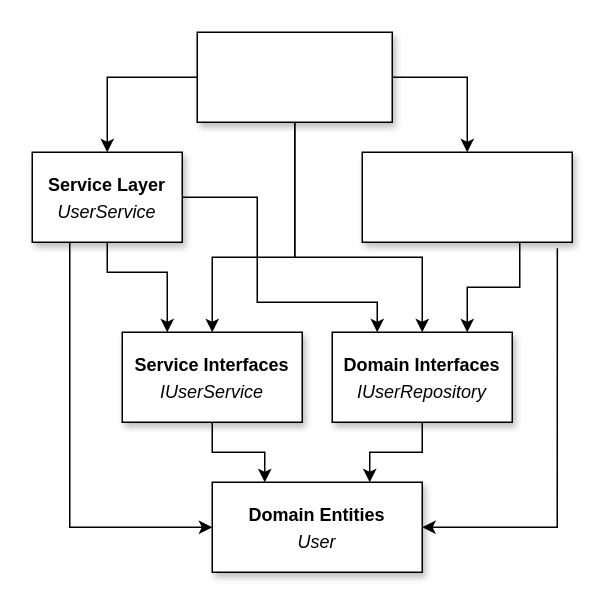
This 608x609 diagram has some shape labels left out. The centre of each missing label's shape, as x and y in pixels:
"App.ts UI Layer | Controllers" goes at point (295, 79).
"Infrastructure Layer UserRepository" goes at point (468, 199).
